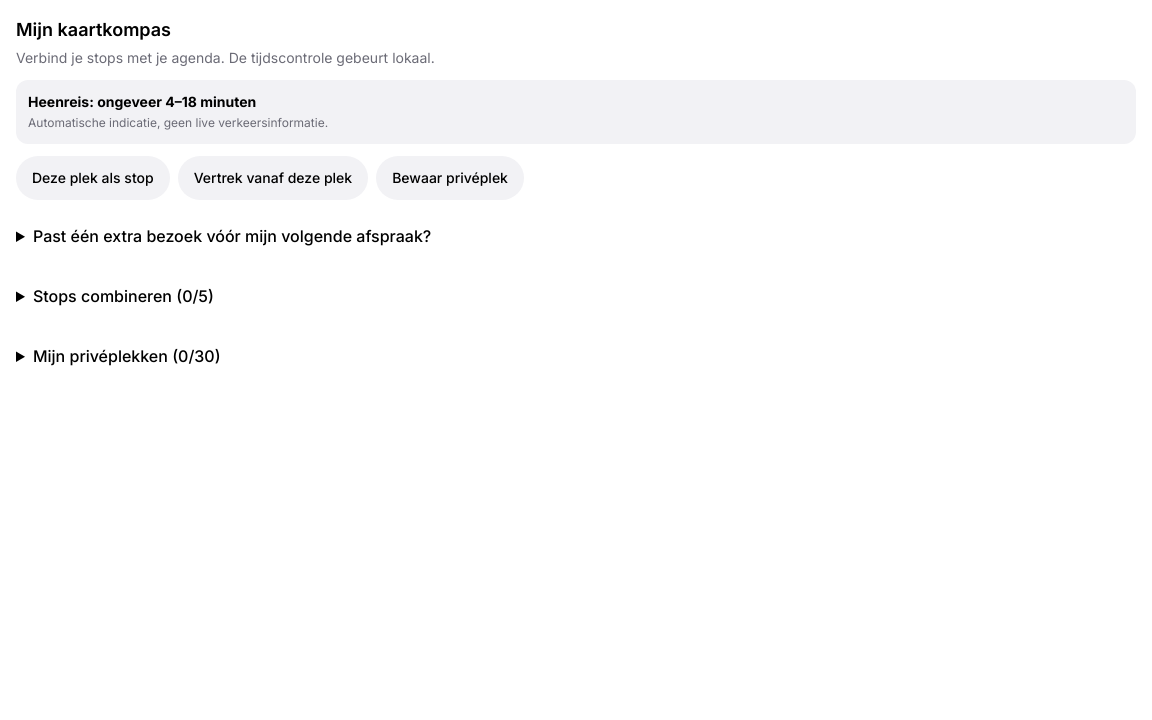
Test case: maakt na een verloren opslagantwoord geen tweede privéplek
The width and height of the screenshot is (1152, 720).
Click the button "Bewaar privéplek" at (450, 178), box [376,156,524,200]
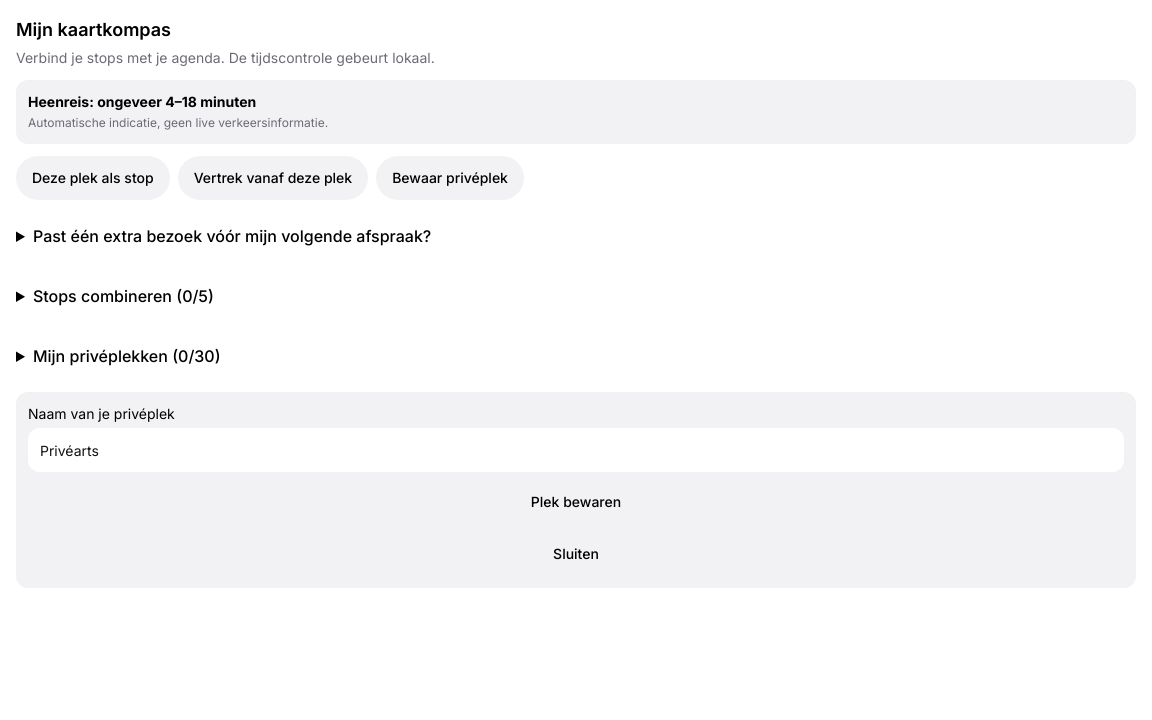
Click the button "Plek bewaren" at (576, 502), box [28,480,1124,524]
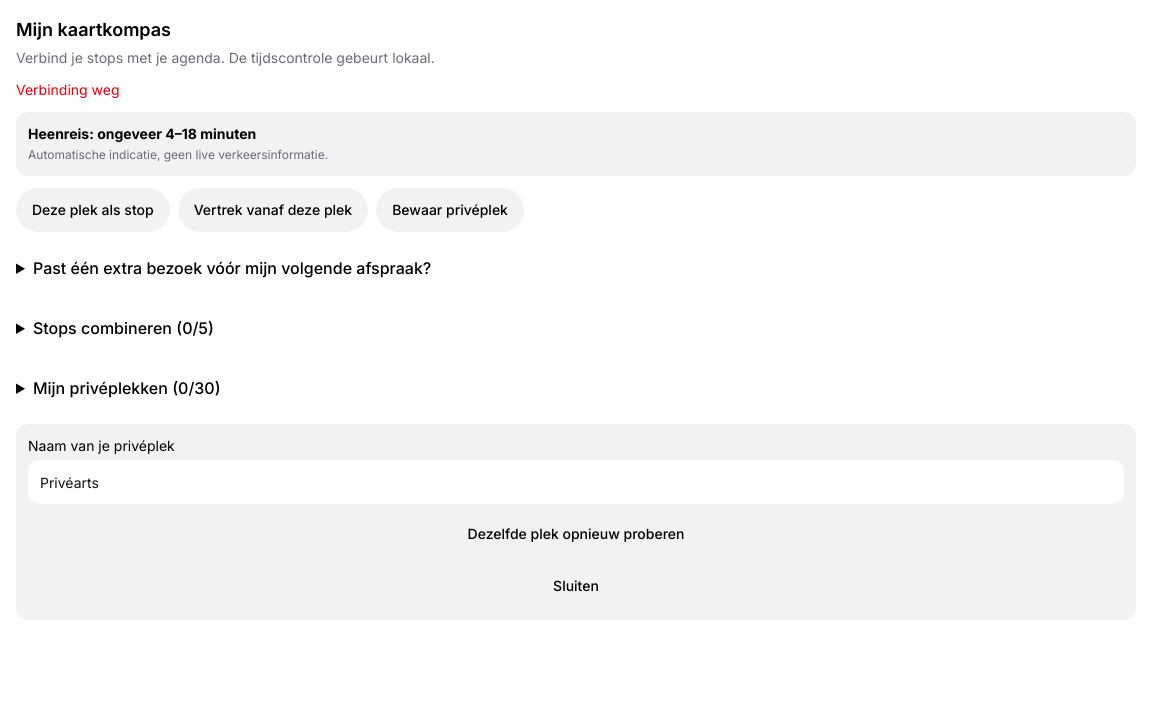
expect the text "Privéplek bewaard." is not shown: met
expect the message "Verbinding weg" is shown: met, box [16,81,120,98]
Click the button "Dezelfde plek opnieuw proberen" at (576, 534), box [28,512,1124,556]
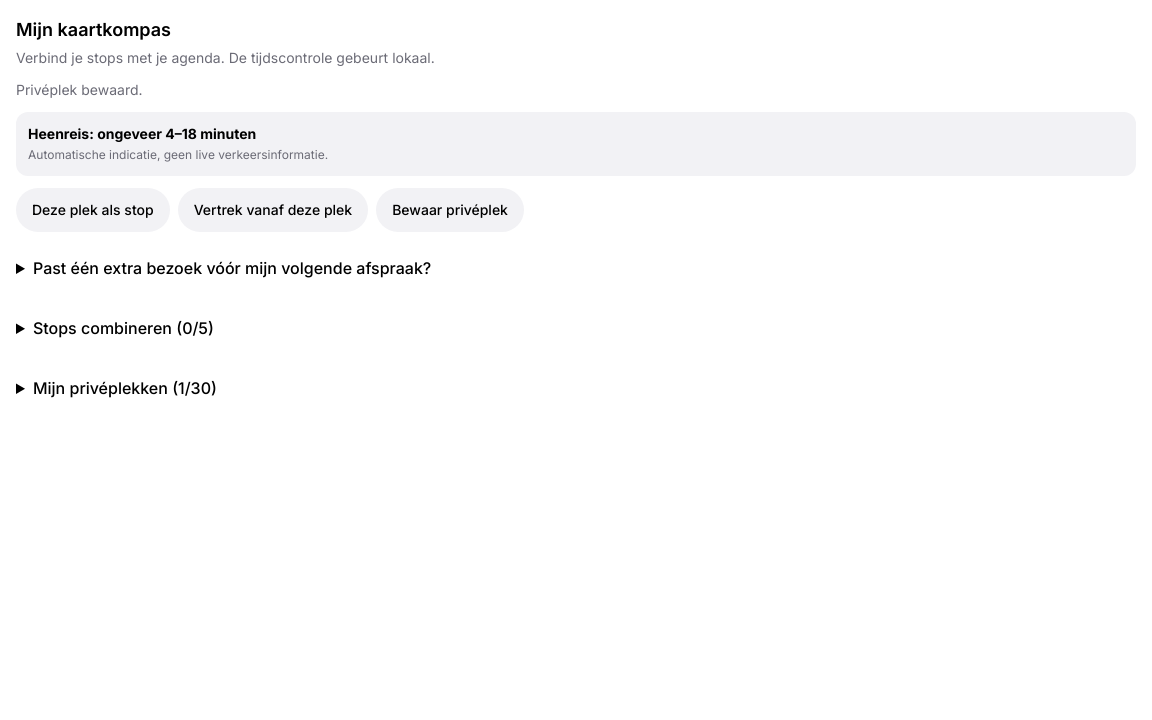
expect the text "Privéplek bewaard." is shown: met, box [16,81,142,98]
